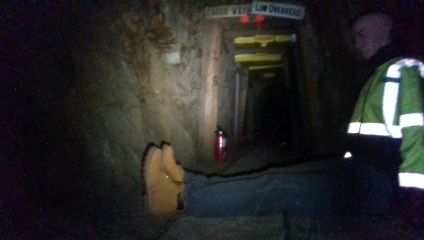fire_extinguisher: (212, 126, 227, 164)
manikin: (138, 11, 423, 233)
